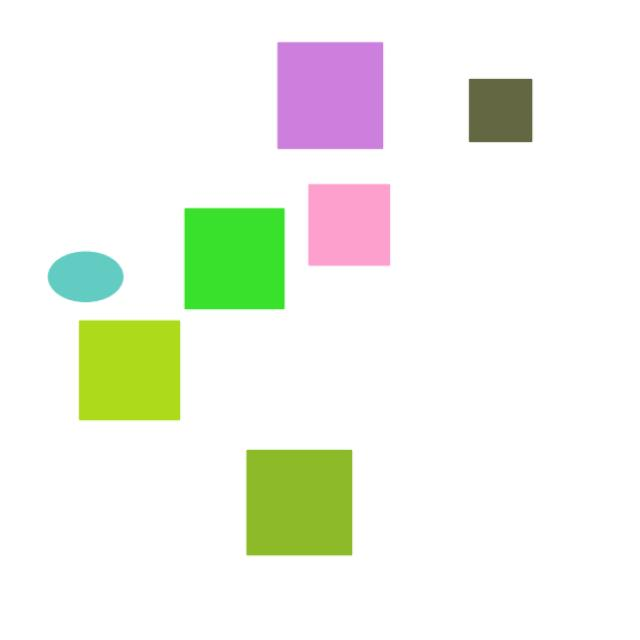Oval: (36, 246, 132, 308)
square: (225, 438, 367, 568), (264, 30, 403, 162), (66, 312, 209, 434), (168, 198, 307, 320), (303, 172, 417, 288), (458, 69, 560, 157)
